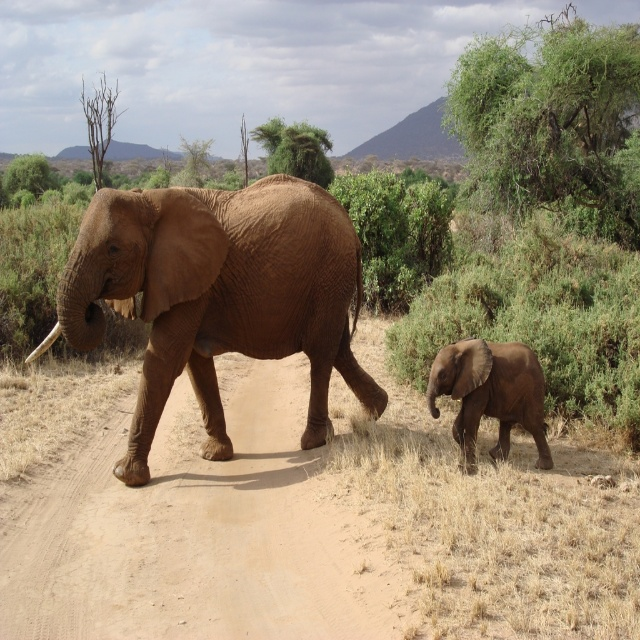Elephant: (25, 173, 389, 486), (426, 335, 554, 474)
